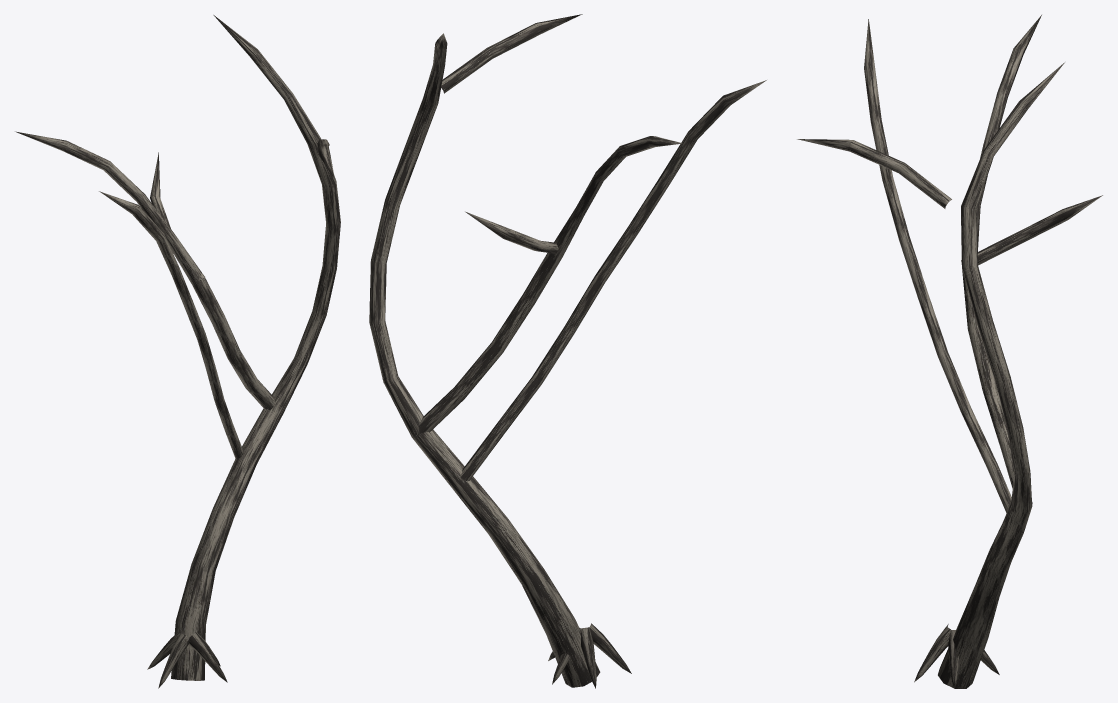
Rendered from tree-dead-b.glb.
3 renders of one model, left to right at view 1: azimuth 30°, elevation 25°; view 2: azimuth 150°, elevation 25°; view 3: azimuth 270°, elevation 25°, orthographic. The views are drawn at different scales.
Visible parts, largest first — view 1: Tree_Dead_B; view 2: Tree_Dead_B; view 3: Tree_Dead_B.
Boxes of the visible parts, x1=… form: Tree_Dead_B: x1=15, y1=15, x2=340, y2=688; Tree_Dead_B: x1=369, y1=14, x2=766, y2=688; Tree_Dead_B: x1=797, y1=15, x2=1102, y2=688.
Size of the model in its own units: 2.97 by 5.73 by 2.41.
1 material, 1 textured.
